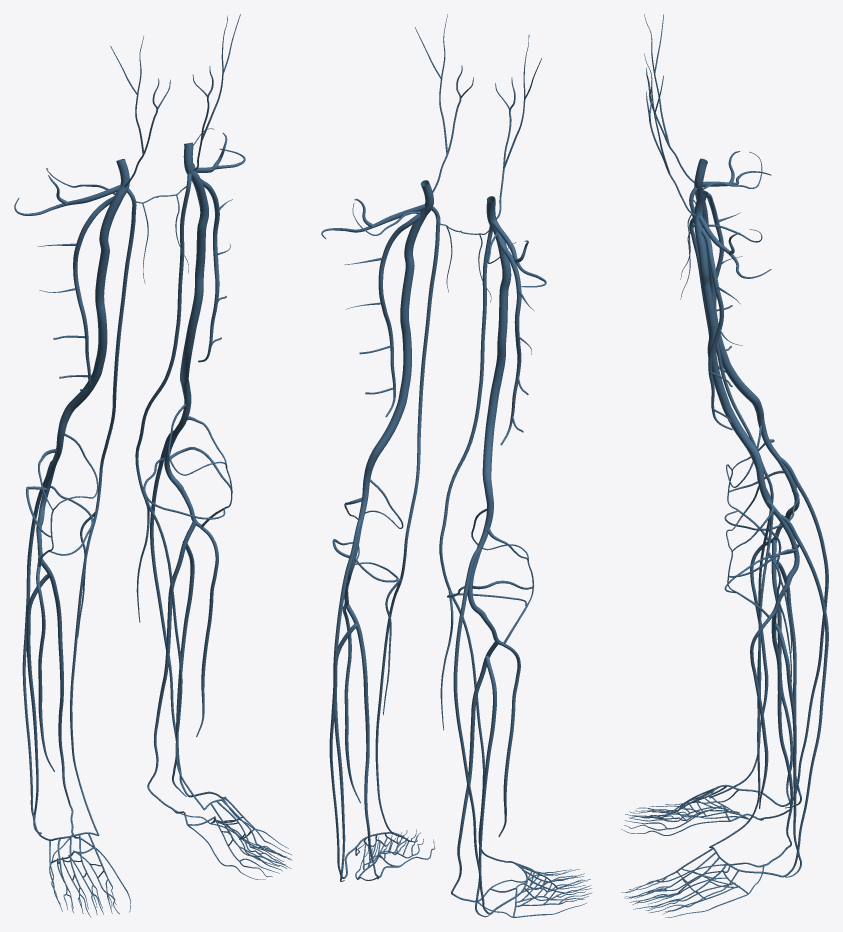
Rendered from venous-lower-limb-balanced.glb.
The picture shows the model from 3 angles, left to right: view 1: azimuth 30°, elevation 25°; view 2: azimuth 150°, elevation 25°; view 3: azimuth 270°, elevation 25°; orthographic projection. The views are drawn at different scales.
Visible parts, largest first — view 1: za.great-saphenous-vein-l, za.great-saphenous-vein-r, za.femoral-vein-r, za.femoral-vein-l, za.small-saphenous-vein-r, za.small-saphenous-vein-l, za.genicular-veins-l, za.posterior-tibial-veins-l, za.genicular-veins-r, za.posterior-tibial-veins-r, za.anterior-tibial-veins-l, za.deep-femoral-vein-r (+9 smaller); view 2: za.great-saphenous-vein-l, za.great-saphenous-vein-r, za.femoral-vein-l, za.femoral-vein-r, za.small-saphenous-vein-r, za.small-saphenous-vein-l, za.posterior-tibial-veins-l, za.posterior-tibial-veins-r, za.fibular-veins-r, za.deep-femoral-vein-l, za.deep-femoral-vein-r, za.genicular-veins-r (+9 smaller); view 3: za.femoral-vein-l, za.great-saphenous-vein-l, za.great-saphenous-vein-r, za.small-saphenous-vein-l, za.small-saphenous-vein-r, za.femoral-vein-r, za.posterior-tibial-veins-l, za.fibular-veins-l, za.deep-femoral-vein-l, za.anterior-tibial-veins-l, za.genicular-veins-l, za.popliteal-vein-l (+11 smaller).
Part boxes in pixels (x1,y1,x2,y2): za.great-saphenous-vein-l: (135, 173, 204, 809); za.great-saphenous-vein-r: (70, 188, 136, 835); za.femoral-vein-r: (71, 159, 129, 407); za.femoral-vein-l: (180, 142, 208, 381); za.small-saphenous-vein-r: (22, 461, 51, 833); za.small-saphenous-vein-l: (150, 430, 206, 797); za.genicular-veins-l: (143, 404, 232, 527); za.posterior-tibial-veins-l: (147, 521, 195, 808); za.genicular-veins-r: (26, 433, 98, 566); za.posterior-tibial-veins-r: (41, 559, 73, 832); za.anterior-tibial-veins-l: (179, 489, 218, 736); za.deep-femoral-vein-r: (73, 196, 113, 390); za.great-saphenous-vein-l: (375, 206, 440, 837); za.great-saphenous-vein-r: (439, 225, 506, 862); za.femoral-vein-l: (376, 180, 433, 448); za.femoral-vein-r: (482, 196, 511, 472); za.small-saphenous-vein-r: (453, 548, 509, 914); za.small-saphenous-vein-l: (329, 519, 361, 878); za.posterior-tibial-veins-l: (345, 604, 378, 879); za.posterior-tibial-veins-r: (451, 641, 498, 902); za.fibular-veins-r: (475, 655, 496, 917); za.deep-femoral-vein-l: (378, 214, 420, 417); za.deep-femoral-vein-r: (496, 233, 521, 445); za.genicular-veins-r: (447, 508, 534, 643); za.femoral-vein-l: (694, 190, 755, 451); za.great-saphenous-vein-l: (689, 216, 791, 846); za.great-saphenous-vein-r: (689, 187, 791, 798); za.small-saphenous-vein-l: (764, 514, 828, 877); za.small-saphenous-vein-r: (764, 457, 828, 806); za.femoral-vein-r: (694, 158, 755, 401); za.posterior-tibial-veins-l: (765, 612, 793, 865); za.fibular-veins-l: (774, 623, 801, 877); za.deep-femoral-vein-l: (701, 228, 732, 430); za.anterior-tibial-veins-l: (750, 581, 790, 808); za.genicular-veins-l: (724, 485, 799, 617); za.popliteal-vein-l: (749, 446, 799, 581).
Size of the model in its own units: 0.2927 by 1.06 by 0.2404.
